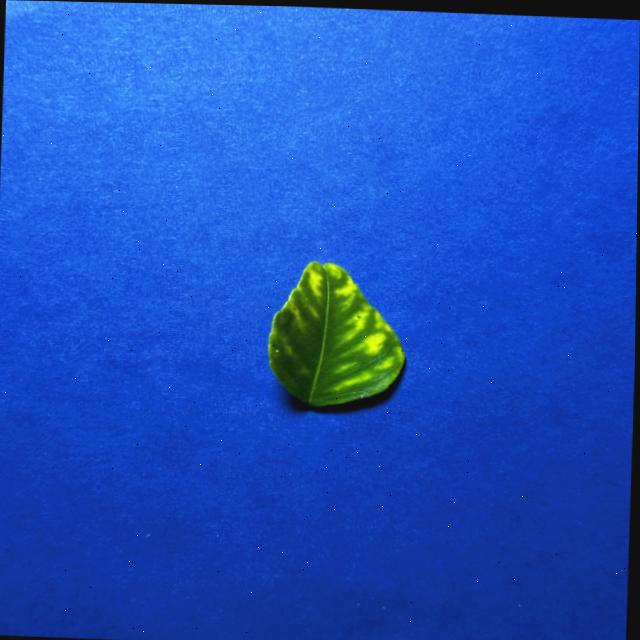greening: (268, 262, 404, 407)
